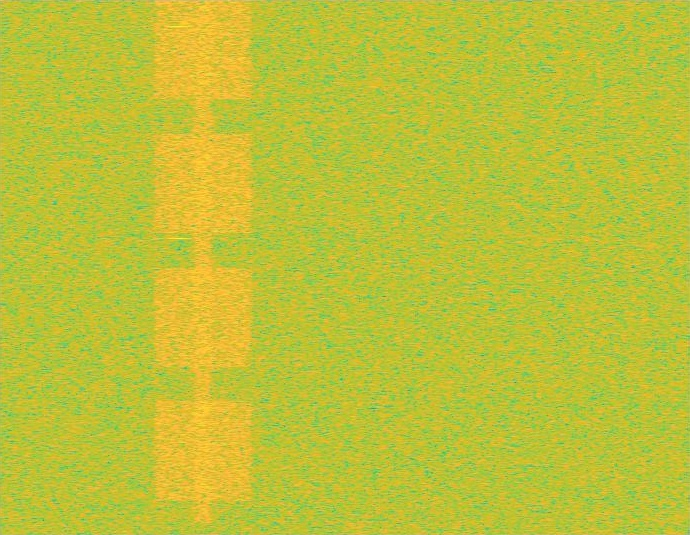5G: (152, 0, 255, 534)
DSSS: (192, 0, 215, 534)
Radar: (172, 0, 186, 534)
